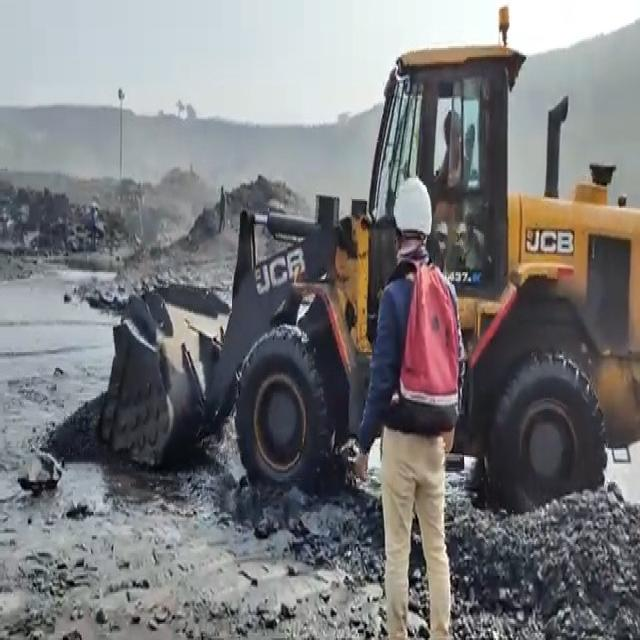buldozerpayloadergrader: (101, 25, 640, 504)
